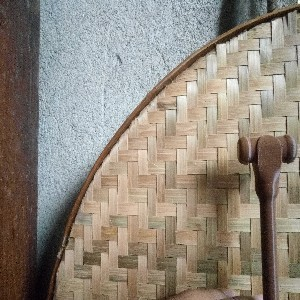palu: (236, 135, 298, 300)
